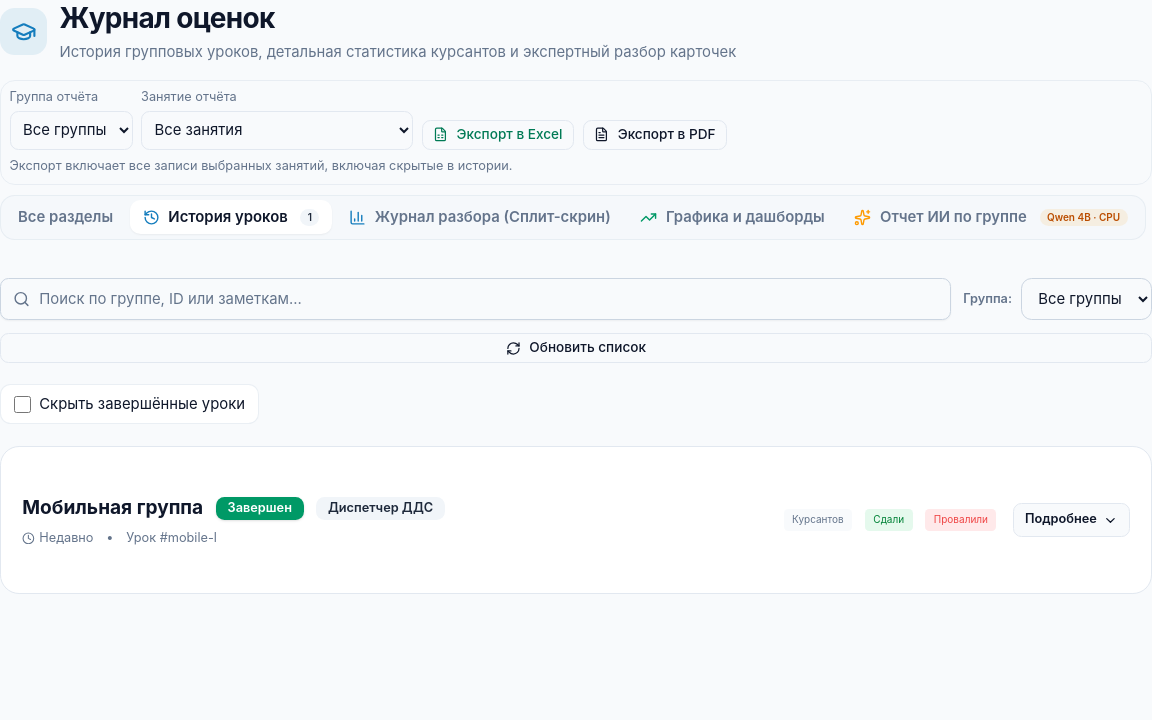
it: Mobile Adaptivity (task_78) › Horizontal Table Scrolling (overflow-x-auto) › should keep the lesson results table horizontally scrollable after removing the heatmap
Click the text "Мобильная группа": (113, 508) 22,493 -> 203,523
(page scrolled)
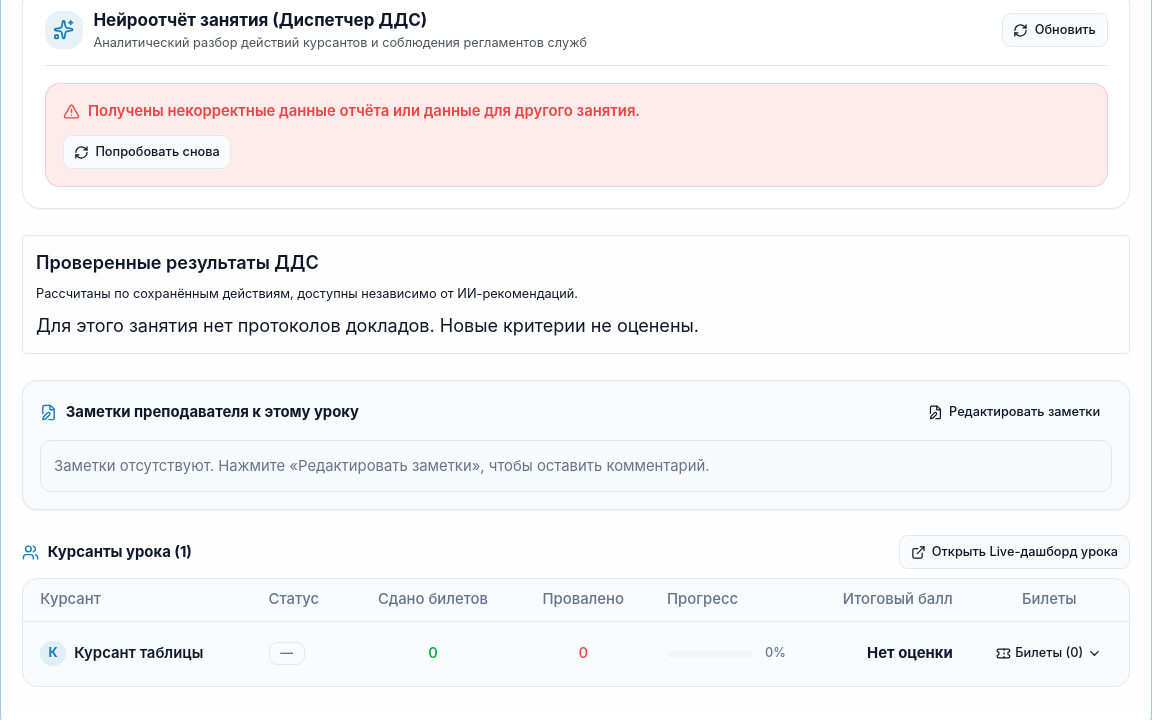
Now the text "Курсант таблицы" is shown, box 74,644 -> 203,662
